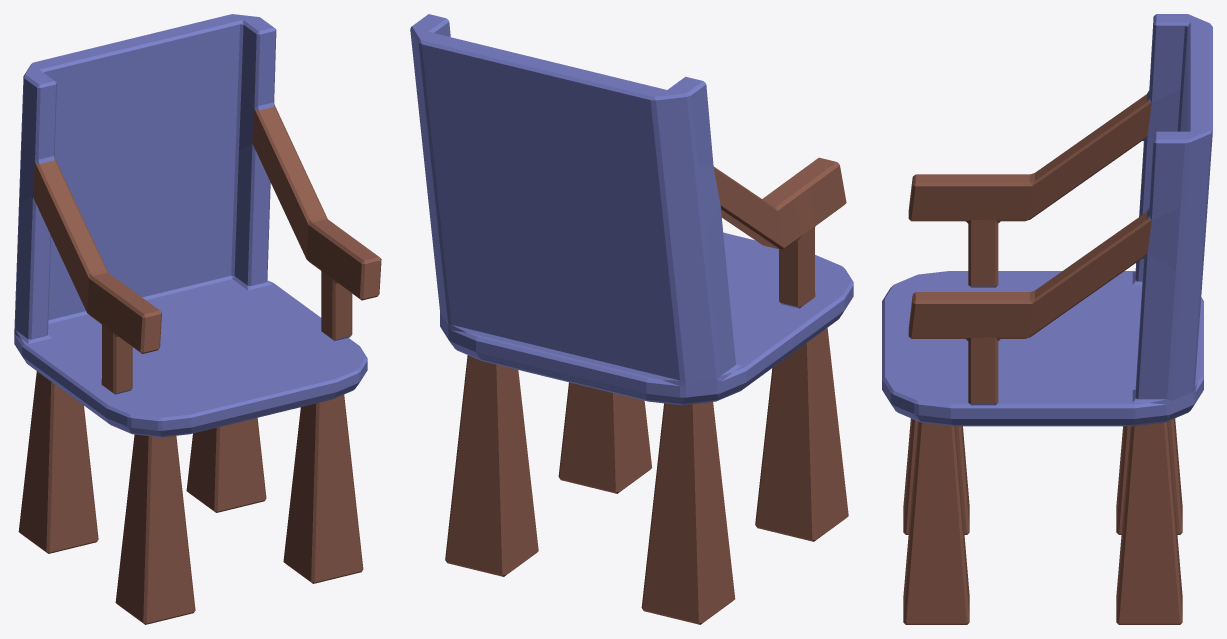
File: chair4.glb
3 renders of one model, left to right at view 1: azimuth 30°, elevation 25°; view 2: azimuth 150°, elevation 25°; view 3: azimuth 270°, elevation 25°, orthographic. The views are drawn at different scales.
Visible parts, largest first — view 1: Chair1.001; view 2: Chair1.001; view 3: Chair1.001.
Boxes of the visible parts, x1=… form: Chair1.001: x1=14, y1=14, x2=381, y2=624; Chair1.001: x1=410, y1=14, x2=853, y2=624; Chair1.001: x1=882, y1=14, x2=1212, y2=624.
Size of the model in its own units: 1.39 by 2.29 by 1.37.
